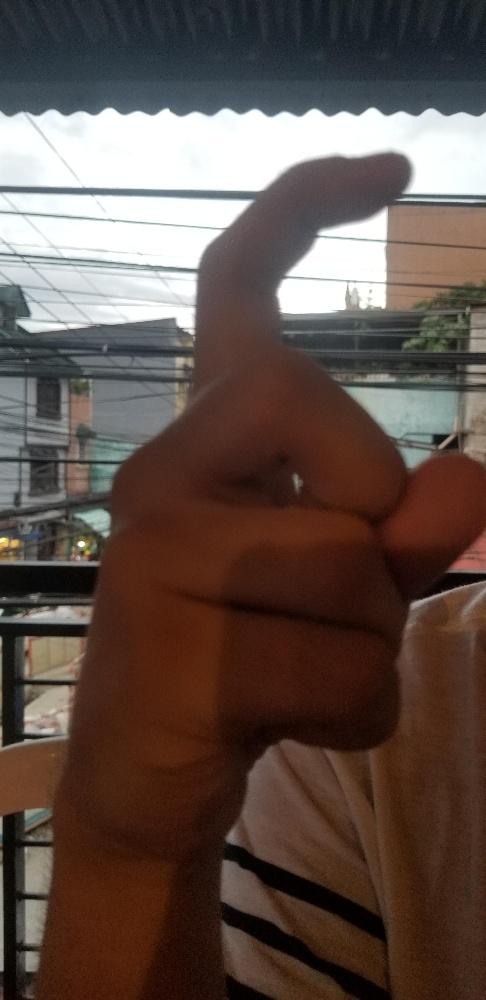x: (64, 150, 485, 833)
